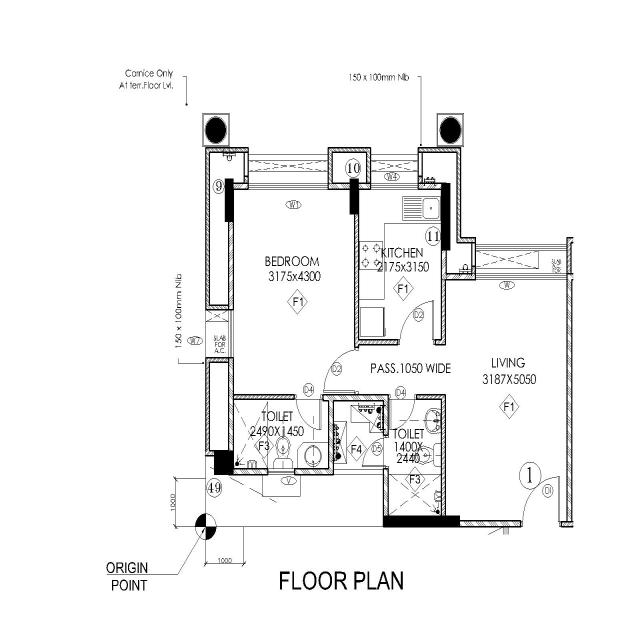Column: (381, 513, 461, 531), (440, 181, 452, 251), (211, 447, 236, 477), (348, 176, 362, 217), (224, 178, 235, 224)
Door: (518, 519, 563, 529), (352, 344, 360, 397), (398, 336, 437, 346), (382, 432, 389, 472), (291, 393, 324, 401), (386, 394, 418, 402)
Ventilator: (265, 467, 297, 477)
Window: (247, 182, 329, 192), (474, 273, 569, 281), (227, 307, 235, 359), (369, 182, 419, 190)
